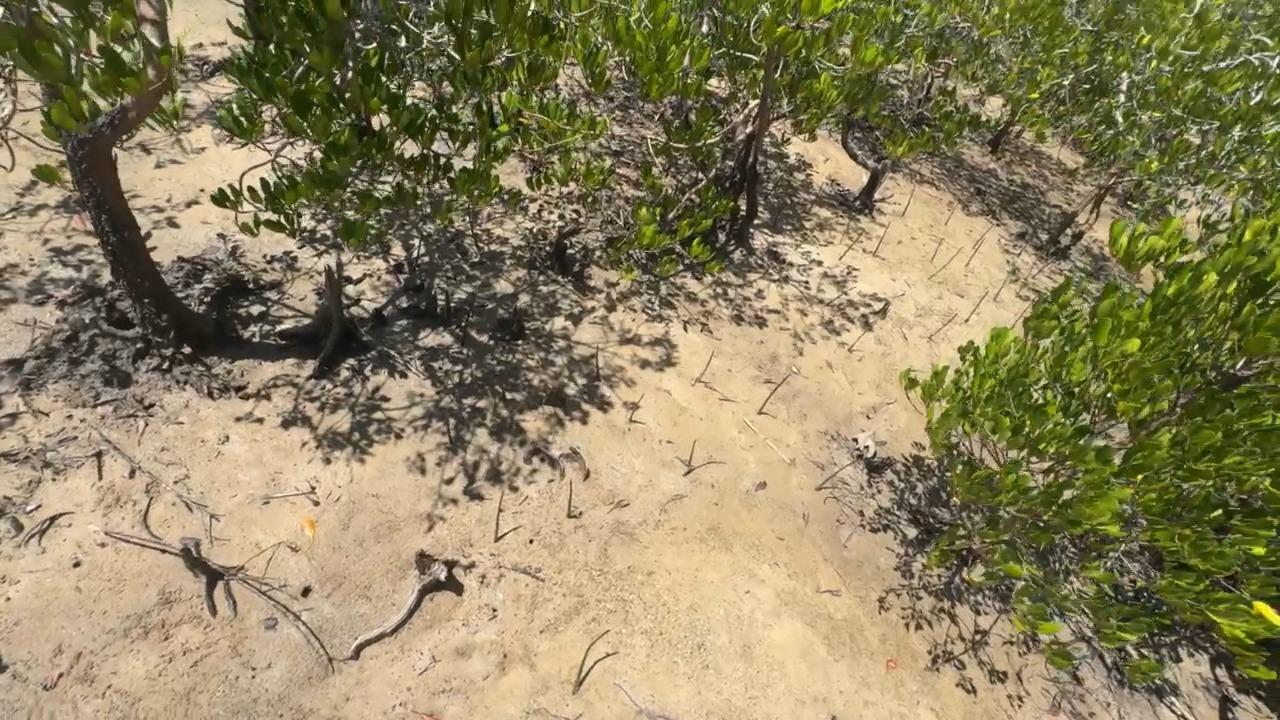Tree: (573, 629, 611, 694), (815, 456, 860, 490), (758, 373, 791, 415), (928, 246, 963, 280), (848, 320, 878, 351), (838, 229, 865, 261), (965, 290, 991, 323), (928, 313, 960, 338), (1010, 297, 1035, 328), (460, 297, 475, 346), (493, 487, 505, 543), (764, 170, 787, 199), (694, 349, 715, 380), (965, 237, 986, 267), (873, 221, 891, 256), (971, 224, 995, 249), (1031, 256, 1056, 279), (901, 184, 917, 217), (929, 235, 947, 264), (629, 393, 645, 421), (808, 186, 824, 211), (772, 200, 786, 228), (944, 201, 959, 226), (994, 274, 1007, 301), (83, 446, 104, 460), (688, 439, 697, 465), (595, 343, 601, 378), (568, 480, 573, 516), (1018, 242, 1029, 256)
